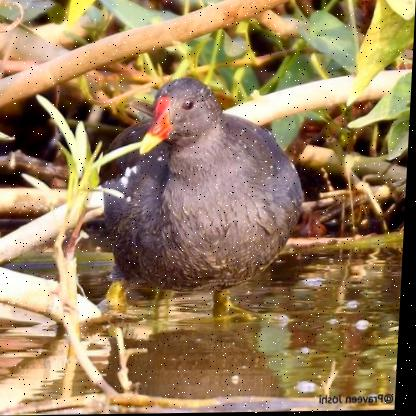Burung: (102, 77, 311, 323)
